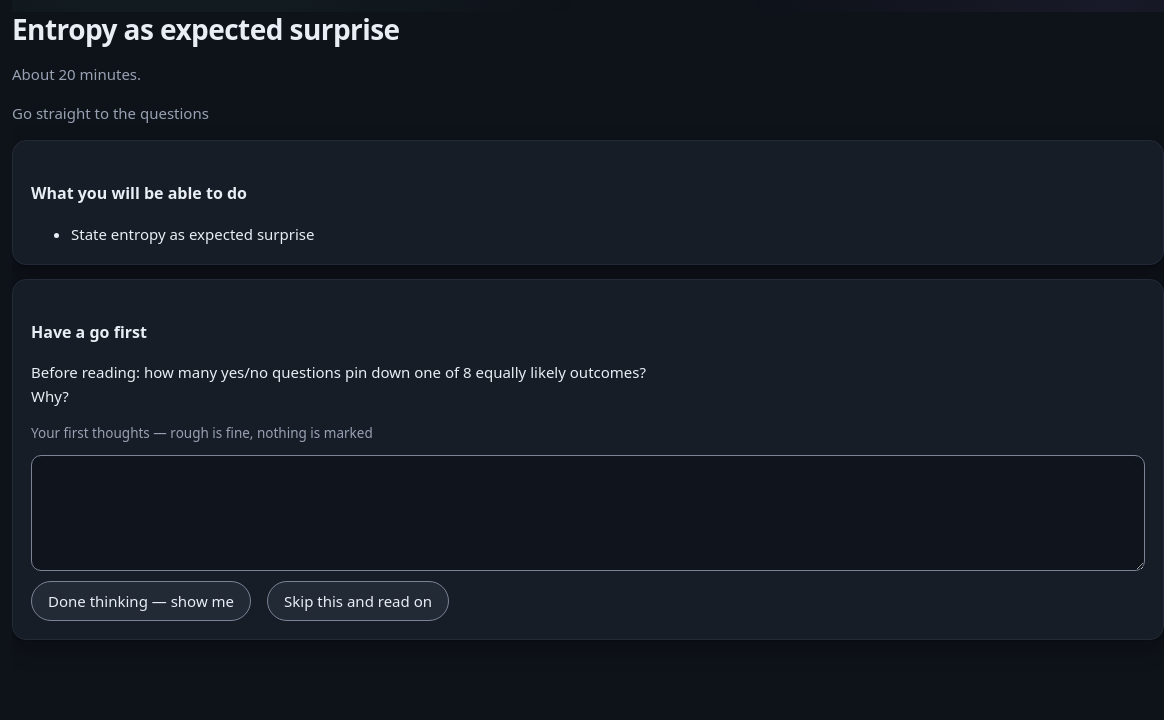
the visualization section › leaves no placeholder inside a full lesson either
The image size is (1164, 720).
Click the button with test id "warm-up-skip". click: x=358, y=601
box: [267,581,449,621]
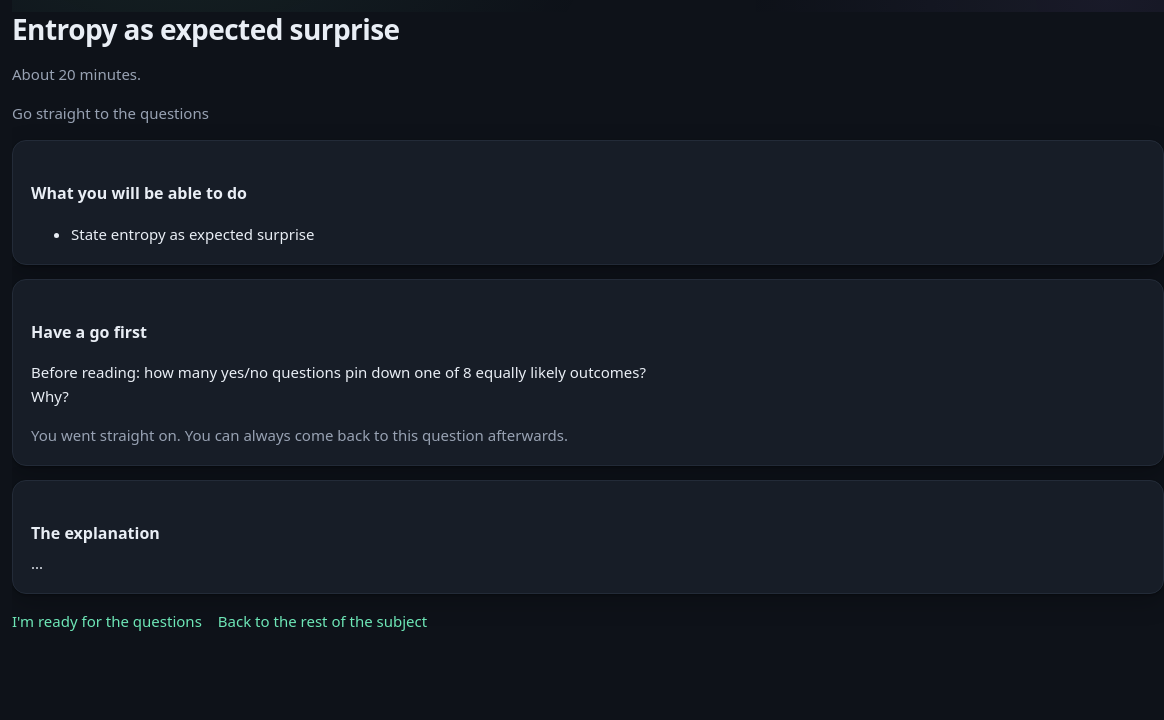
Expected: the element with test id "explanation" is shown, [12,480,1163,594]
